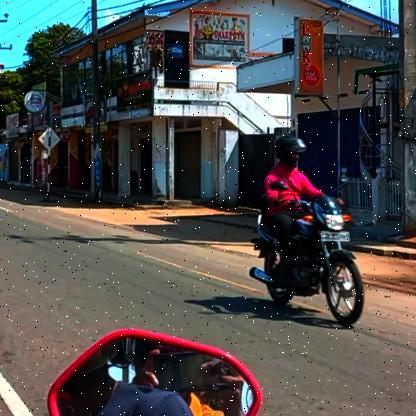motorcycle: (247, 194, 369, 328)
